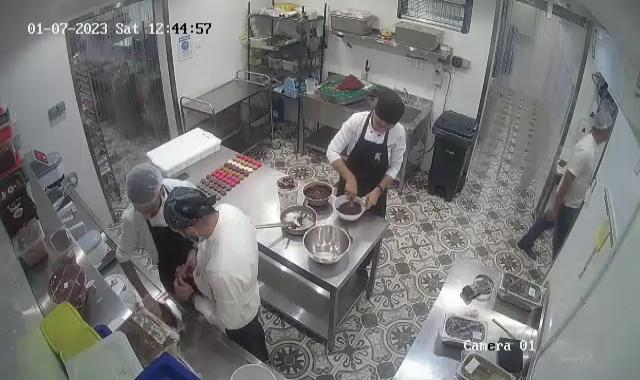hairnet: (124, 161, 164, 209), (591, 108, 612, 139)
no_hairnet: (165, 184, 210, 238), (374, 91, 404, 130)
